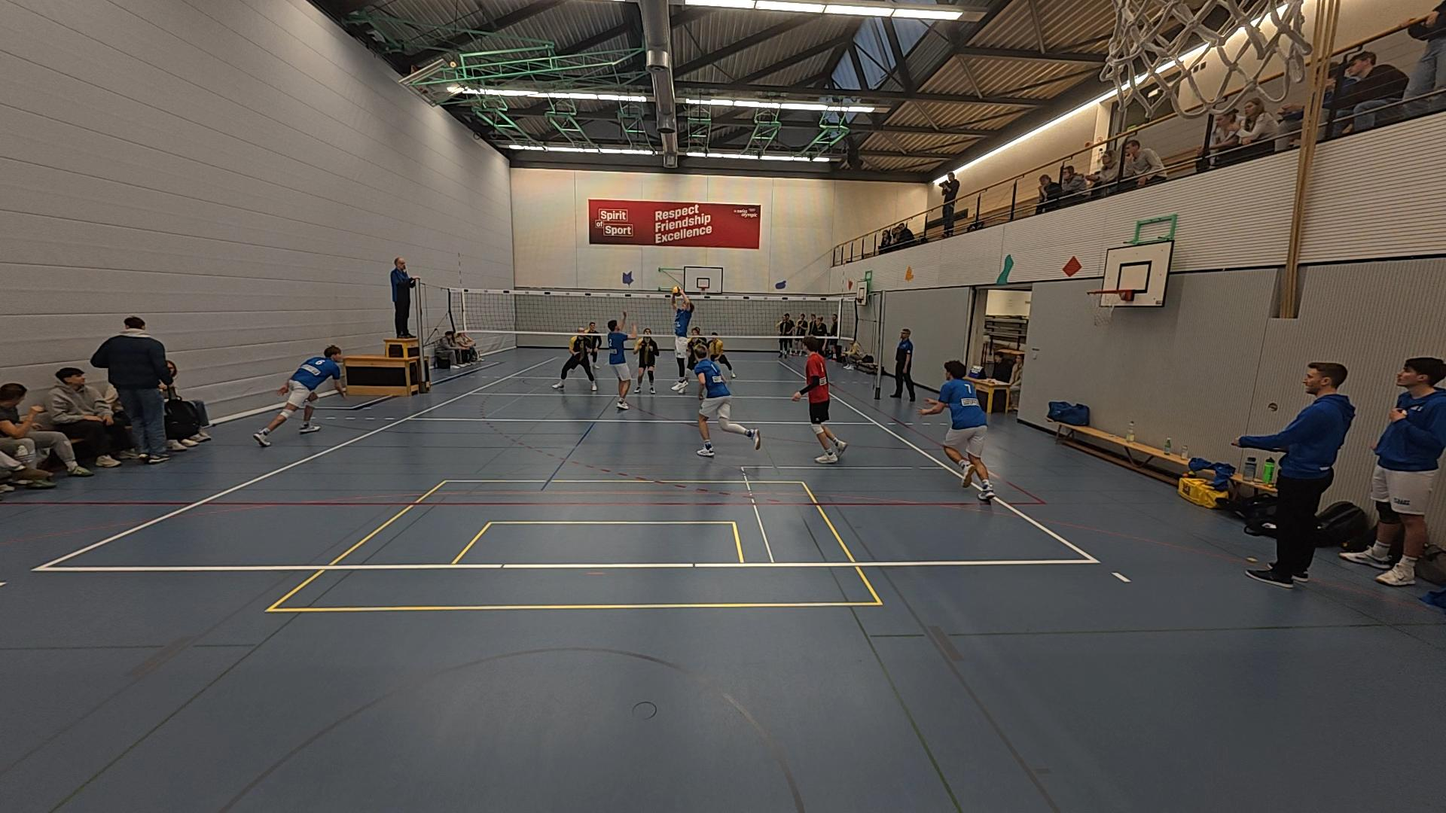alzata: (664, 280, 698, 393)
